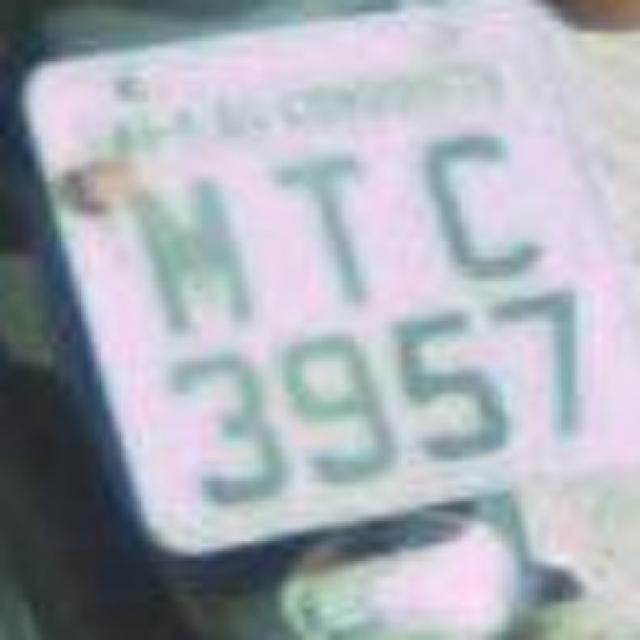3: (115, 325, 320, 520)
5: (364, 288, 524, 480)
7: (460, 272, 620, 452)
9: (252, 309, 416, 496)
C: (408, 111, 564, 284)
N: (112, 160, 272, 335)
T: (264, 136, 396, 312)
